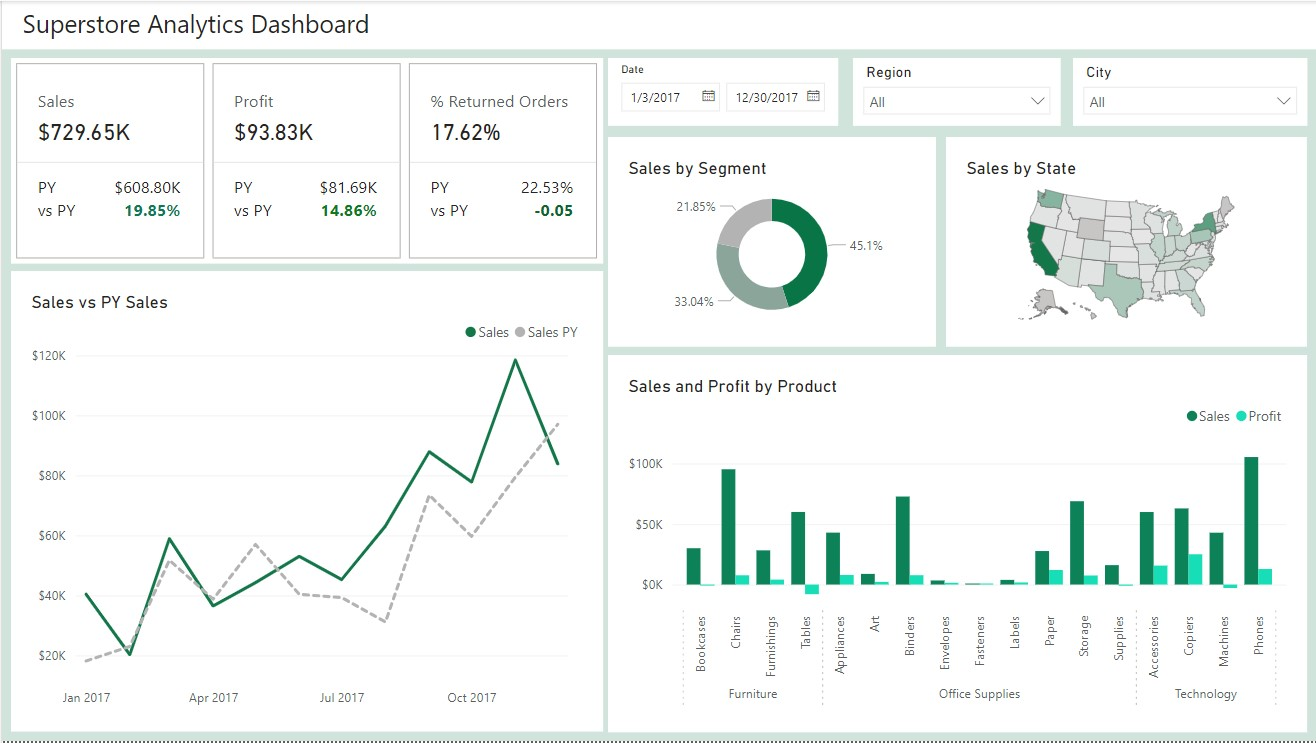

Layout of this report page (visuals, bound fields, positions):
{"tool":"powerbi","page":{"name":"Profit","canvas":[1280,720],"ordinal":0},"visuals":[{"type":"cardVisual","fields":{"Data":["Key Measures.Sales","Key Measures.Profit","Key Measures.% Returned Orders"]},"box":[8.8,55.4,575.8,200.4],"z":0},{"type":"lineChart","title":"Sales vs PY Sales","fields":{"Y":["Key Measures.Sales","Key Measures.Sales PY"],"Category":["Date Table.Start of month"]},"box":[8.8,262.6,575.8,448.4],"z":1000},{"type":"textbox","box":[0,0,1280,46.7],"z":2000},{"type":"clusteredColumnChart","title":"Sales and Profit by Product","fields":{"Category":["Orders.Category","Orders.Sub-Category"],"Y":["Key Measures.Sales","Key Measures.Profit"]},"box":[589.3,343.9,679.7,367.2],"z":3000},{"type":"donutChart","title":"Sales by Segment","fields":{"Y":["Key Measures.Sales"],"Category":["Orders.Segment"]},"box":[589.3,132.5,318.8,204.2],"z":4000},{"type":"slicer","fields":{"Values":["Orders.City"]},"box":[1041.7,55.4,227.6,66.1],"z":5000},{"type":"slicer","fields":{"Values":["Orders.Region"]},"box":[827.7,55.4,202.3,66.1],"z":6000},{"type":"slicer","fields":{"Values":["Date Table.Date"]},"box":[589.4,55.4,223.7,66.1],"z":7000},{"type":"shapeMap","title":"Sales by State","fields":{"Value":["Key Measures.Sales"],"Category":["Orders.State"]},"box":[918.2,132.3,351.1,204.3],"z":8000}]}

Visuals, with their boxes in screenshot pixels (x1, y1, x2, y2), scaled from the page's 1280x720 canvas onto the 1316x743 screenshot:
cardVisual - Key Measures.Sales x Key Measures.Profit: <box>9,57,601,264</box>
"Sales vs PY Sales" lineChart: <box>9,271,601,734</box>
textbox: <box>0,0,1315,48</box>
"Sales and Profit by Product" clusteredColumnChart: <box>606,355,1305,734</box>
"Sales by Segment" donutChart: <box>606,137,934,347</box>
slicer - Orders.City: <box>1071,57,1305,125</box>
slicer - Orders.Region: <box>851,57,1059,125</box>
slicer - Date Table.Date: <box>606,57,836,125</box>
"Sales by State" shapeMap: <box>944,137,1305,347</box>
